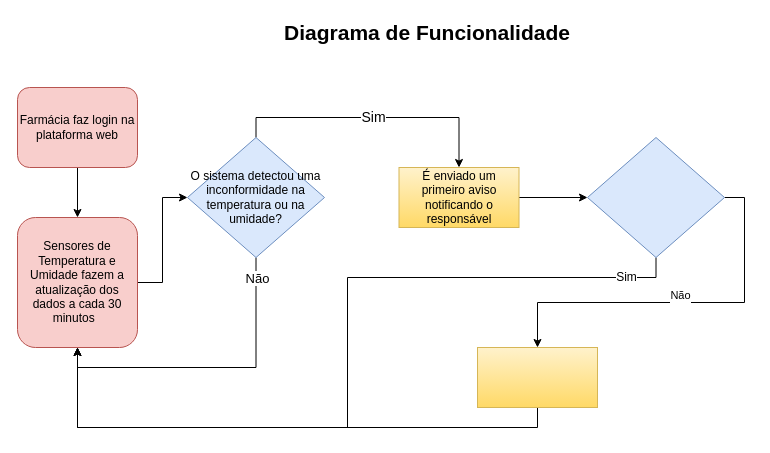
Some shapes in this 770 by 453 pixel diagram are drawn without their labels. The centre of each missing label's shape, as x and y in pixels:
"Após 10 minutos, o sistema detectou que o problema foi resolvido?" belongs at pixel 655 197.
"O sistema envia o segundo alarme" belongs at pixel 537 377.
